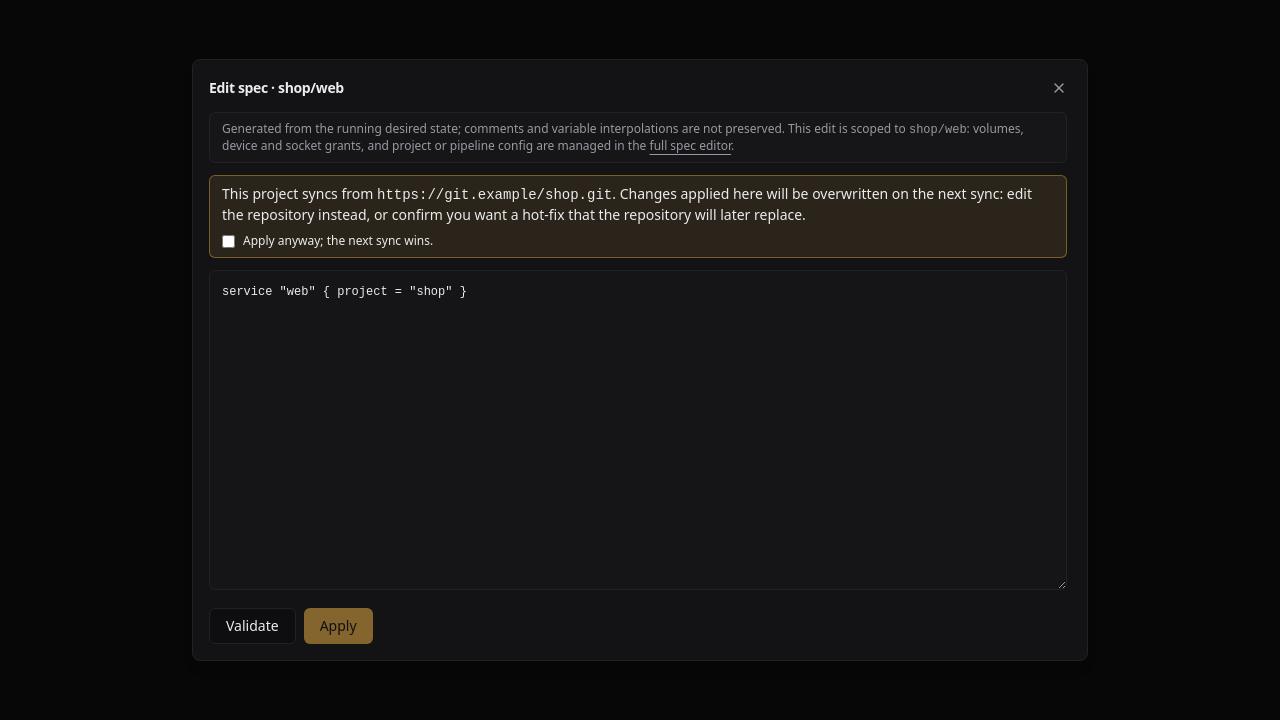
Scenario: SpecEditDialog › demands the acknowledgement on a git-synced project
The width and height of the screenshot is (1280, 720).
Expected: the text box named "Job spec HCL" is shown, [209,270,1067,590]
Expected: the text "Apply anyway; the next sync wins." is shown, [222,232,433,249]
Click the button "Validate" at (252, 626), box [209,608,296,644]
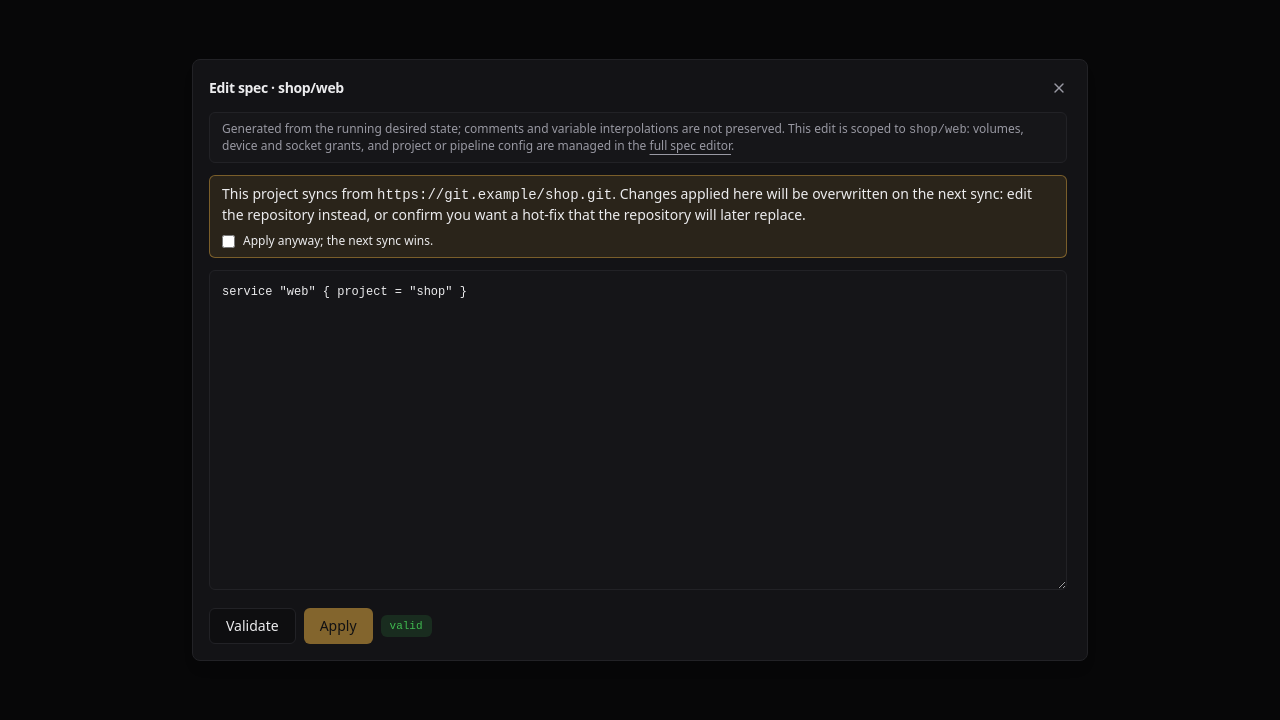
Expected: the button "Apply" is disabled, [304,608,372,644]
Expected: the text "valid" is shown, [380,615,432,637]
Click the checkbox at (228, 241), box [222,234,235,248]
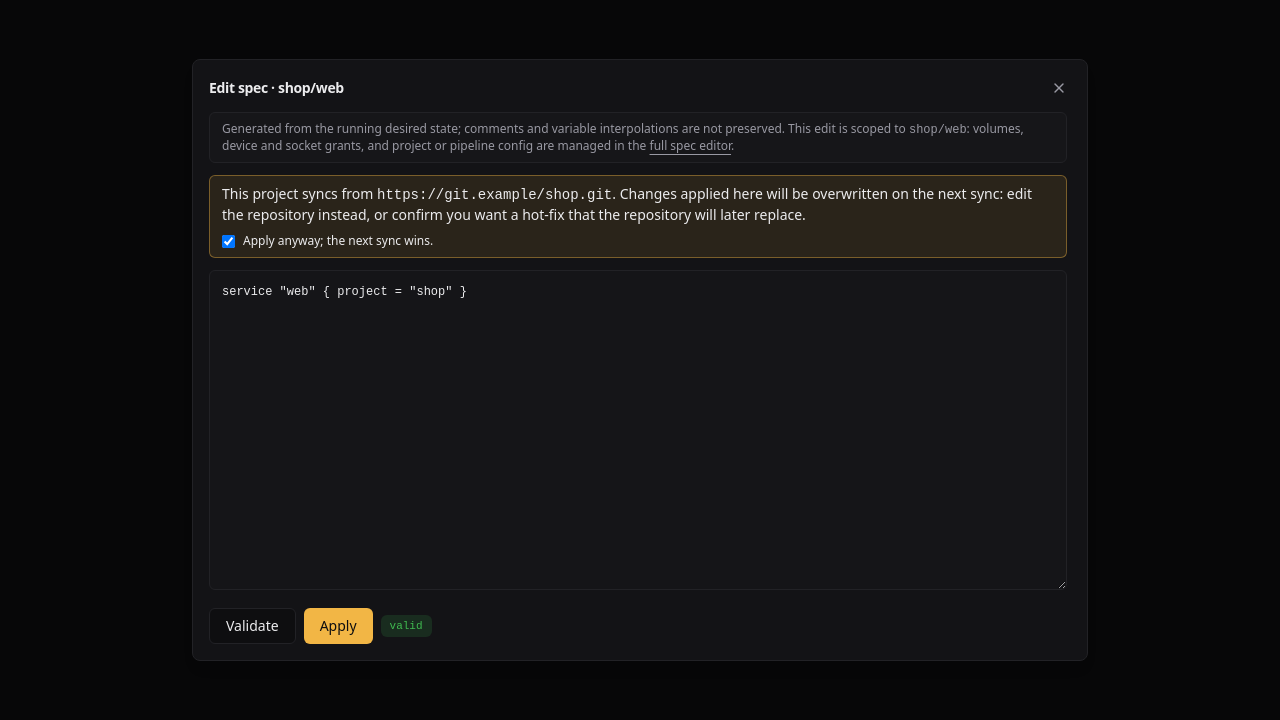
Expected: the button "Apply" is enabled, [304,608,372,644]
